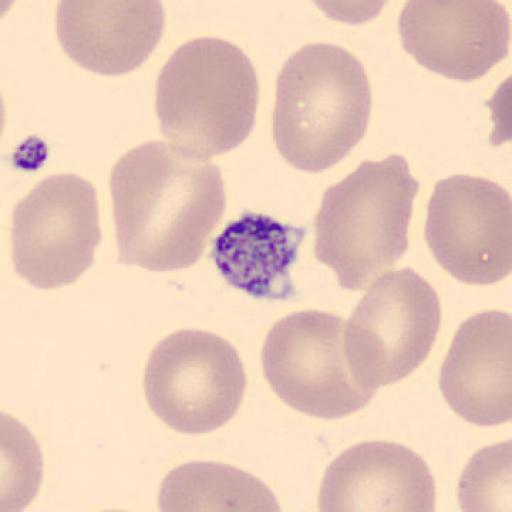Platelet: (206, 209, 306, 303)
RBC: (106, 137, 228, 275), (311, 154, 417, 293), (270, 38, 374, 176), (259, 308, 381, 421), (152, 34, 260, 161), (343, 264, 442, 388), (141, 326, 247, 437), (8, 171, 102, 292), (424, 172, 512, 288), (397, 0, 512, 83), (315, 438, 439, 512), (438, 307, 512, 429), (53, 1, 167, 78), (154, 458, 285, 512), (2, 410, 44, 512), (455, 437, 512, 512), (304, 0, 396, 27), (488, 72, 512, 152), (0, 0, 23, 24)
